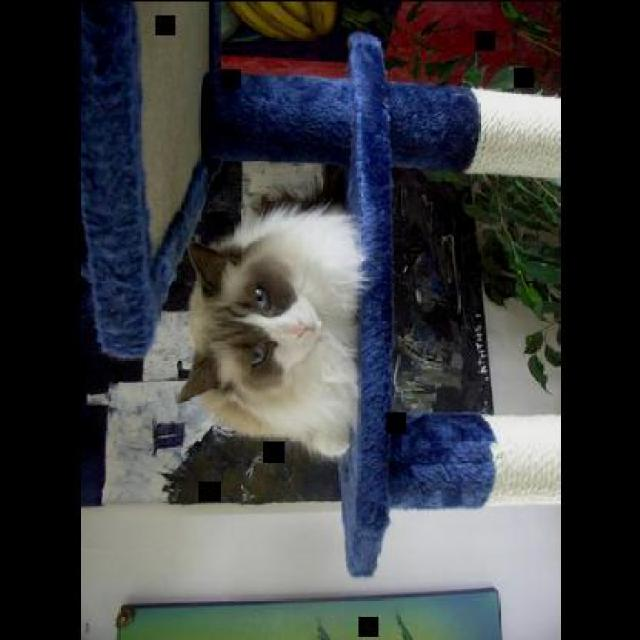unauthorized: (175, 169, 368, 460)
